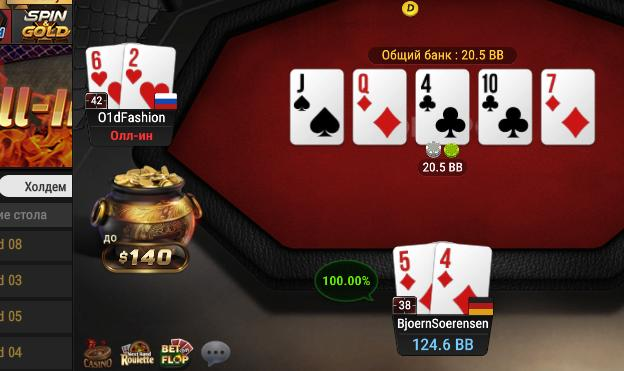10c: (479, 70, 531, 144)
2h: (123, 42, 176, 111)
4c: (416, 68, 469, 145)
4d: (433, 240, 490, 316)
5d: (391, 244, 434, 315)
6h: (84, 42, 123, 110)
7d: (542, 70, 594, 146)
Js: (291, 70, 344, 144)
Qd: (354, 69, 406, 144)
